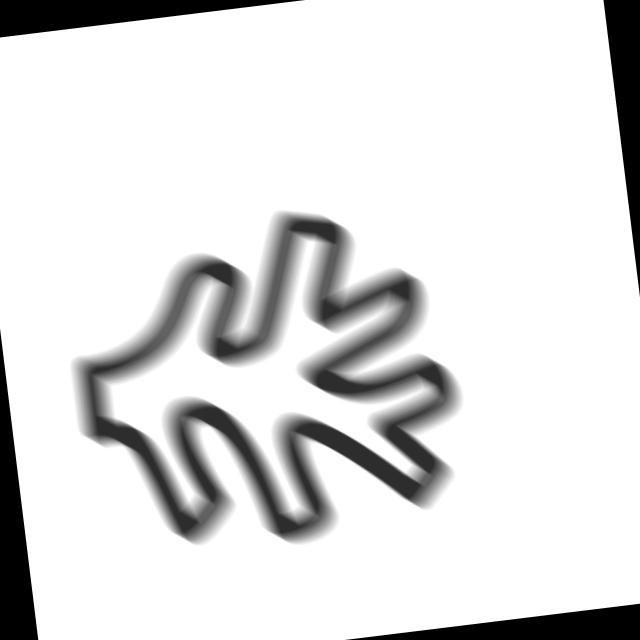coral: (44, 184, 484, 580)
